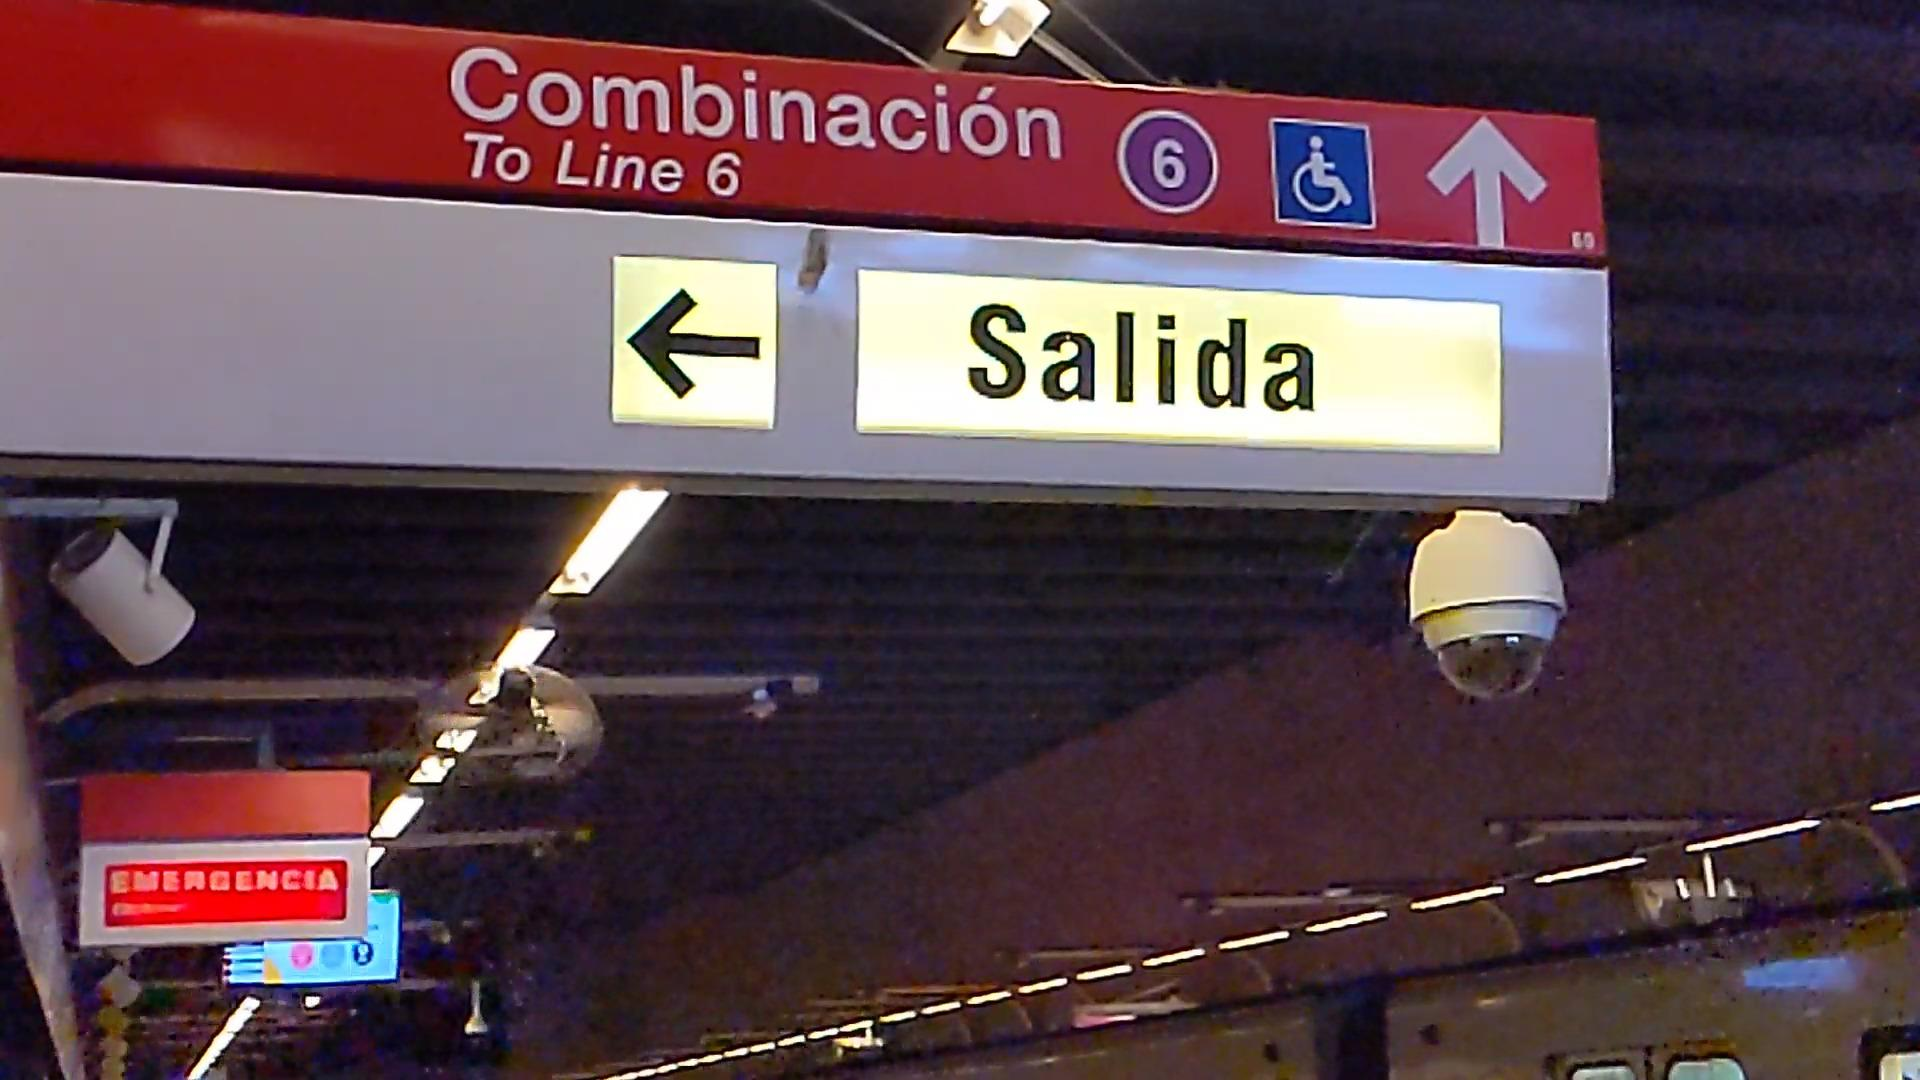handicapped symbol: (1291, 132, 1353, 214)
left arrow: (622, 286, 765, 405)
up arrow: (1423, 112, 1552, 248)
